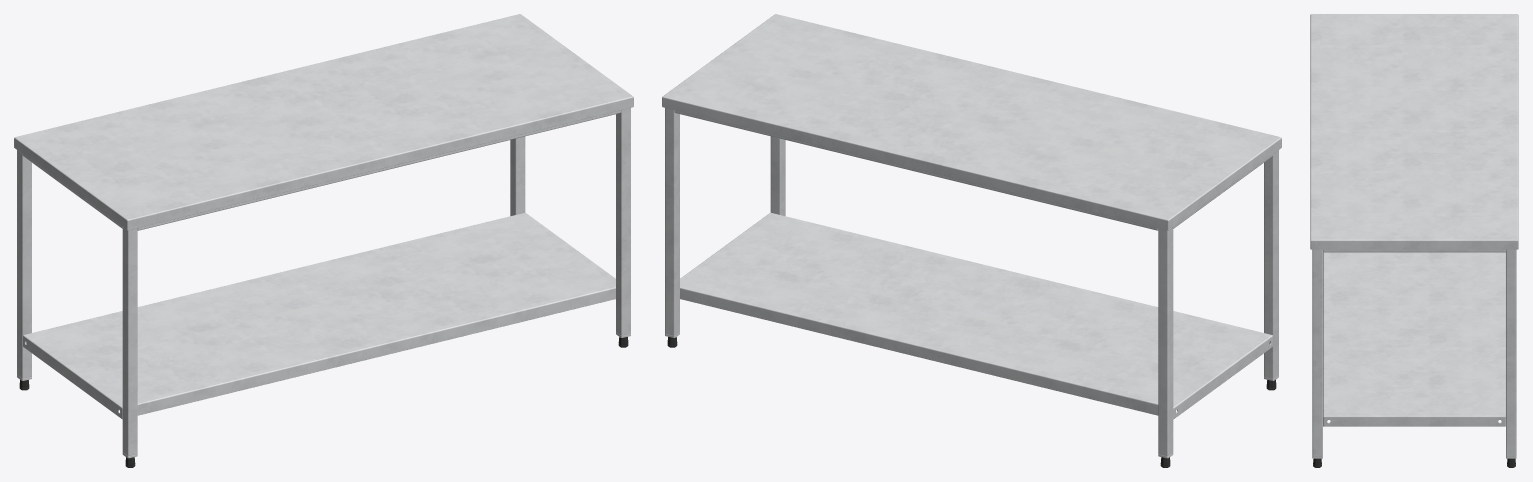
The model's file is table_metal_stainless_a03.glb.
3 renders of one model, left to right at view 1: azimuth 30°, elevation 25°; view 2: azimuth 150°, elevation 25°; view 3: azimuth 270°, elevation 25°, orthographic. The views are drawn at different scales.
Visible parts, largest first — view 1: sm_table_metal_stainless_a03_mesh_00; view 2: sm_table_metal_stainless_a03_mesh_00; view 3: sm_table_metal_stainless_a03_mesh_00.
Boxes of the visible parts, box(x1,y1,x2,y2) form: sm_table_metal_stainless_a03_mesh_00: box(14, 14, 633, 467); sm_table_metal_stainless_a03_mesh_00: box(662, 14, 1281, 467); sm_table_metal_stainless_a03_mesh_00: box(1310, 14, 1518, 467).
Size of the model in its own units: 1.8 by 0.85 by 0.6988.
2 materials, 2 textured.
